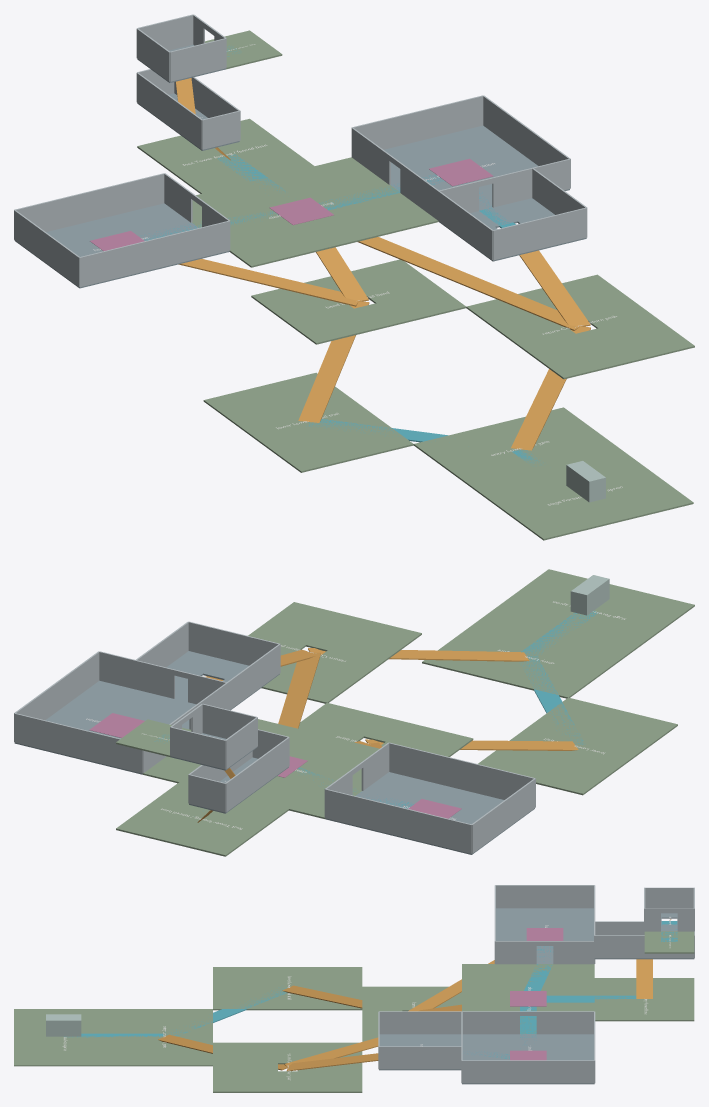
File: rough-shell.glb
3 views of the same model, one above another, from view 1: azimuth 30°, elevation 25°; view 2: azimuth 150°, elevation 25°; view 3: azimuth 270°, elevation 25° (orthographic). The views are drawn at different scales.
Visible parts, largest first — view 1: Floor lower, Floor stage, Floor entry, Floor foot, Floor ruin, Wall hut S, Wall hut N, Wall ruin N, Floor clearing.007, Floor clearing.002, Floor clearing.005, Wall store S (+39 smaller); view 2: Floor lower, Floor entry, Floor stage, Floor foot, Wall hut N, Floor ruin, Wall hut S, Wall ruin N, Wall store S, Floor clearing, Floor return.002, Wall ruin E (+41 smaller); view 3: Floor lower, Floor entry, Floor stage, Floor foot, Floor ruin, Wall ruin E, Wall hut W, Wall store E, Wall store W, Floor clearing.002, Floor clearing, Wall landing E (+44 smaller).
Boxes of the visible parts, <box> form: Floor lower: <box>203,372,413,472</box>; Floor stage: <box>478,455,693,540</box>; Floor entry: <box>413,407,628,492</box>; Floor foot: <box>137,118,314,193</box>; Floor ruin: <box>384,125,569,210</box>; Wall hut S: <box>79,221,229,287</box>; Wall hut N: <box>14,173,164,231</box>; Wall ruin N: <box>352,95,483,149</box>; Floor clearing.007: <box>325,194,438,241</box>; Floor clearing.002: <box>229,221,333,267</box>; Floor clearing.005: <box>270,157,387,201</box>; Wall store S: <box>493,207,587,260</box>; Floor lower: <box>478,697,677,795</box>; Floor entry: <box>422,615,631,698</box>; Floor stage: <box>485,569,694,652</box>; Floor foot: <box>116,782,288,856</box>; Wall hut N: <box>325,789,471,853</box>; Floor ruin: <box>14,680,195,774</box>; Wall hut S: <box>389,742,535,799</box>; Wall ruin N: <box>14,713,142,773</box>; Wall store S: <box>188,621,279,665</box>; Floor clearing: <box>247,774,360,819</box>; Floor return.002: <box>328,620,421,664</box>; Wall ruin E: <box>14,651,99,741</box>; Floor lower: <box>213,967,362,1010</box>; Floor entry: <box>113,1009,212,1066</box>; Floor stage: <box>14,1009,113,1066</box>; Floor foot: <box>594,978,694,1021</box>; Floor ruin: <box>462,1034,594,1084</box>; Wall ruin E: <box>462,1060,594,1083</box>; Wall hut W: <box>495,885,594,908</box>; Wall store E: <box>379,1046,461,1069</box>; Wall store W: <box>379,1011,461,1034</box>; Floor clearing.002: <box>462,964,518,994</box>; Floor clearing: <box>538,964,594,994</box>; Wall landing E: <box>594,935,694,958</box>.
Bounding box in the file's own units: 50.16 × 18.16 × 82.08.
